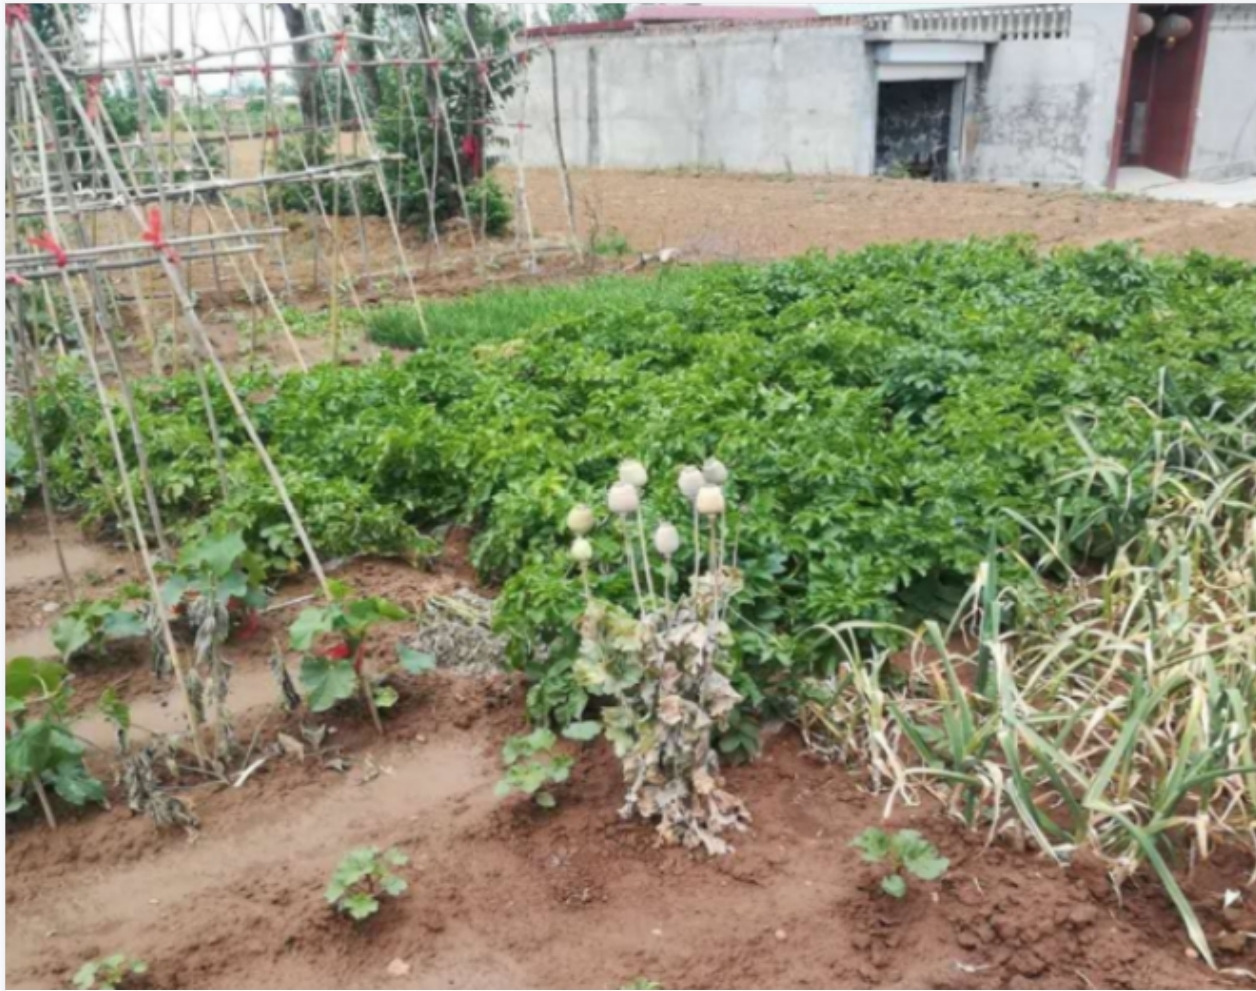Poppy: (544, 444, 765, 849)
